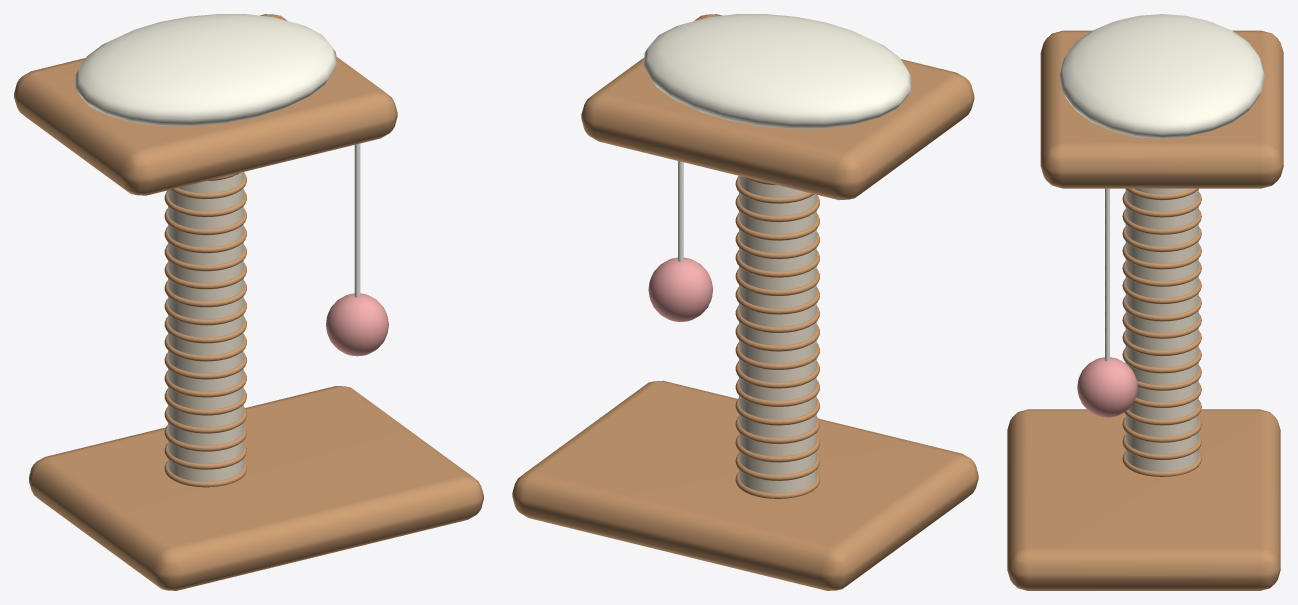
File: catTreeTan.glb
The picture shows the model from 3 angles, left to right: view 1: azimuth 30°, elevation 25°; view 2: azimuth 150°, elevation 25°; view 3: azimuth 270°, elevation 25°; orthographic projection. The views are drawn at different scales.
Parts seen in each view (by area): view 1: Cat tree base, Upper perch, Cushion, Sisal post, Dangling toy, Hanging toy string, Rope ring.004, Rope ring.005, Rope ring.007, Rope ring.010, Rope ring.003, Rope ring.006 (+9 smaller); view 2: Cat tree base, Upper perch, Cushion, Sisal post, Dangling toy, Rope ring.012, Rope ring.014, Rope ring.010, Rope ring.006, Rope ring.008, Rope ring.002, Rope ring.004 (+10 smaller); view 3: Cat tree base, Cushion, Upper perch, Sisal post, Dangling toy, Hanging toy string, Rope ring.006, Rope ring.009, Rope ring.012, Rope ring.015, Rope ring.002, Rope ring.011 (+11 smaller).
Boxes of the visible parts, x1,y1,x2,y2 form: Cat tree base: (29,386,483,590); Upper perch: (14,14,397,195); Cushion: (74,14,336,126); Sisal post: (168,172,243,481); Dangling toy: (326,293,388,356); Hanging toy string: (354,143,360,297); Rope ring.004: (164,389,246,415); Rope ring.005: (164,371,246,397); Rope ring.007: (164,334,246,361); Rope ring.010: (164,280,246,307); Rope ring.003: (164,407,246,433); Rope ring.006: (164,353,246,379); Cat tree base: (512,380,978,590); Upper perch: (581,14,974,199); Cushion: (643,14,911,128); Sisal post: (739,176,816,493); Dangling toy: (648,257,712,321); Rope ring.012: (735,250,819,277); Rope ring.014: (735,213,819,240); Rope ring.010: (735,287,819,314); Rope ring.006: (735,361,819,388); Rope ring.008: (735,324,819,351); Rope ring.002: (735,435,819,462); Rope ring.004: (735,398,819,425); Cat tree base: (1007,409,1280,590); Cushion: (1059,14,1265,138); Upper perch: (1040,30,1283,188); Sisal post: (1125,188,1198,471); Dangling toy: (1077,357,1137,417); Hanging toy string: (1105,188,1109,361); Rope ring.006: (1122,348,1201,373); Rope ring.009: (1122,296,1201,321); Rope ring.012: (1122,244,1201,269); Rope ring.015: (1122,192,1201,217); Rope ring.002: (1122,417,1201,442); Rope ring.011: (1122,261,1201,286).
Bounding box in the file's own units: 1.25 × 1.64 × 0.91.
